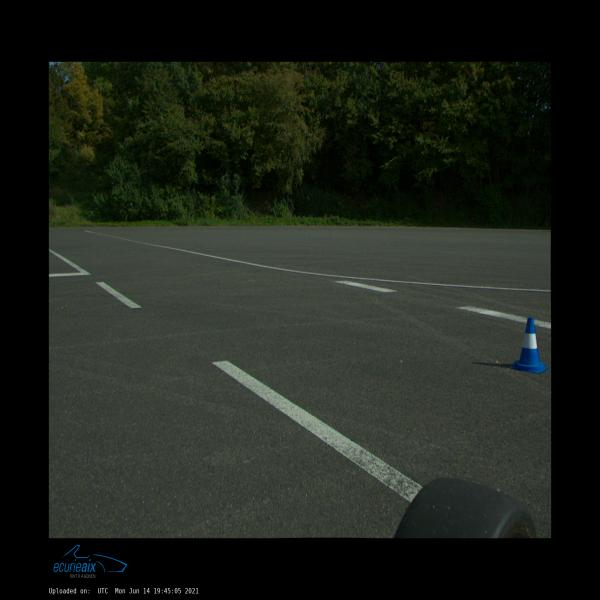blue_cone: (510, 318, 548, 373)
